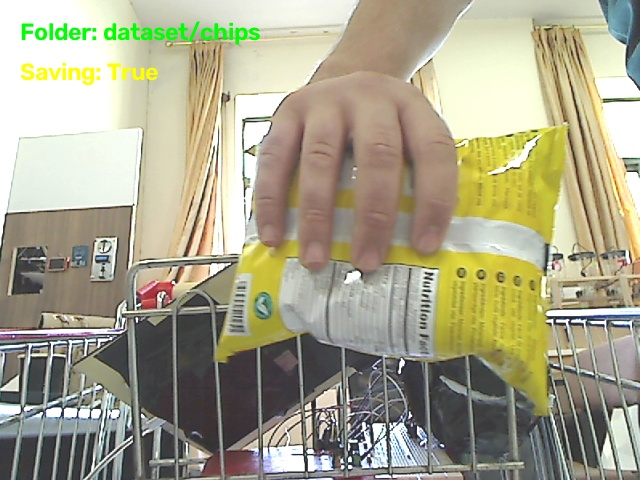chips: (216, 126, 566, 414)
